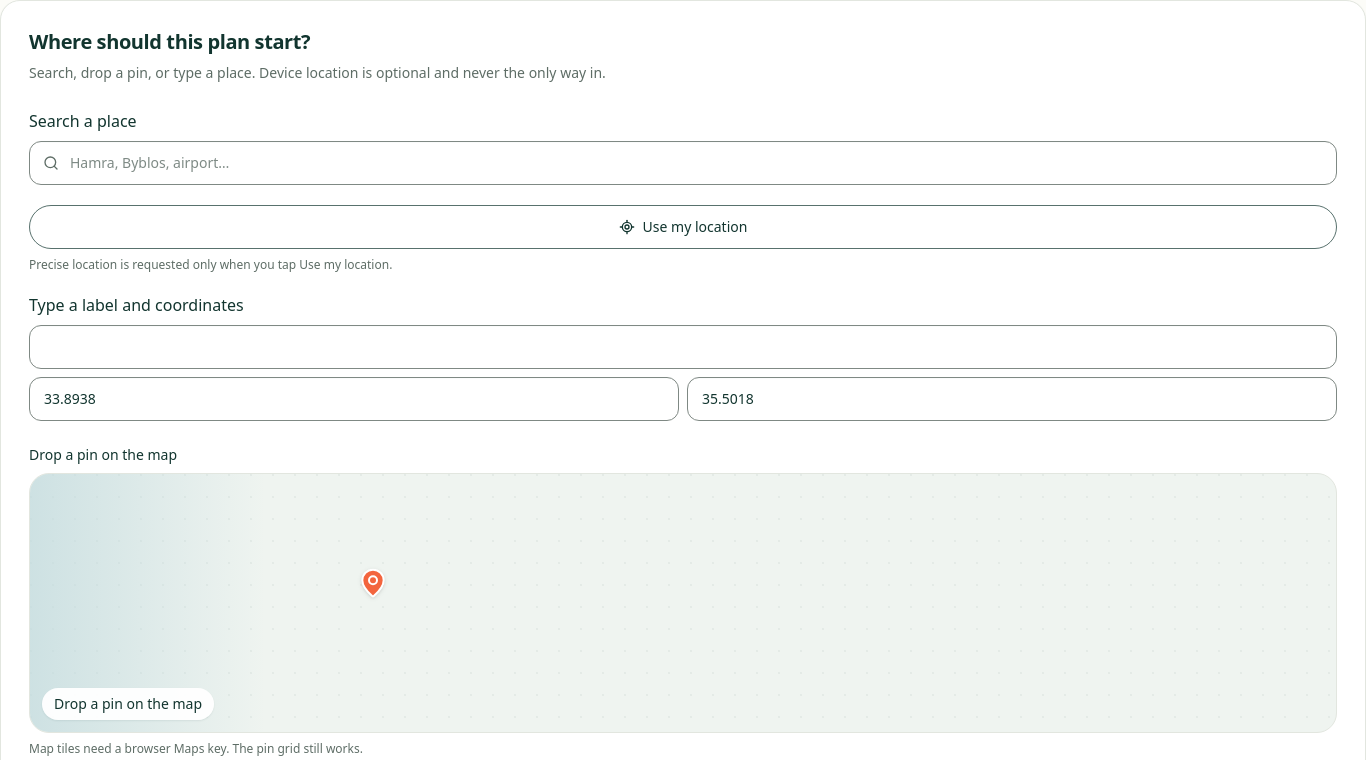
Test: start location picker › applies a search hit and a dropped pin
Type "byb" into the field labelled "Search a place" at x=683, y=163, box [29,141,1337,185]
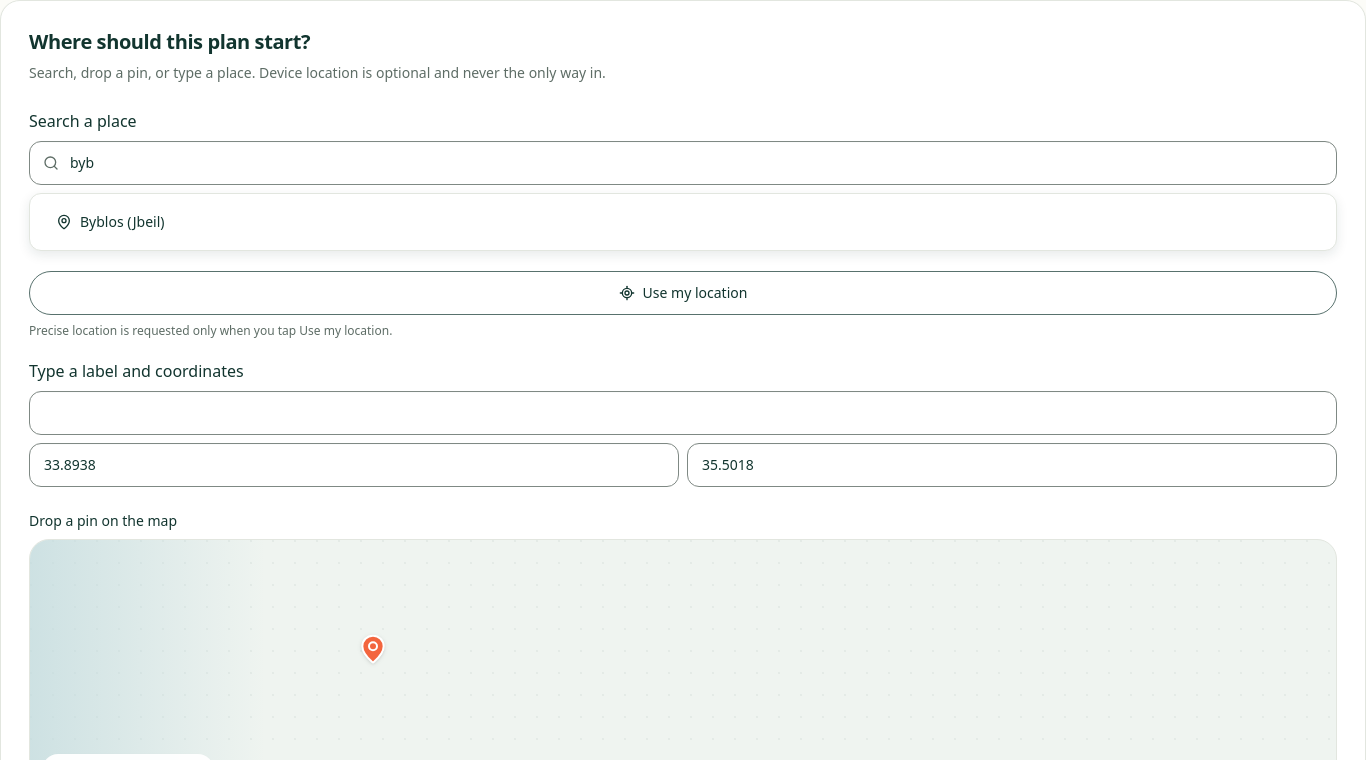
expect the button "Byblos (Jbeil)" is shown: met
Click the button "Byblos (Jbeil)" at x=122, y=221, box [36,200,1330,244]
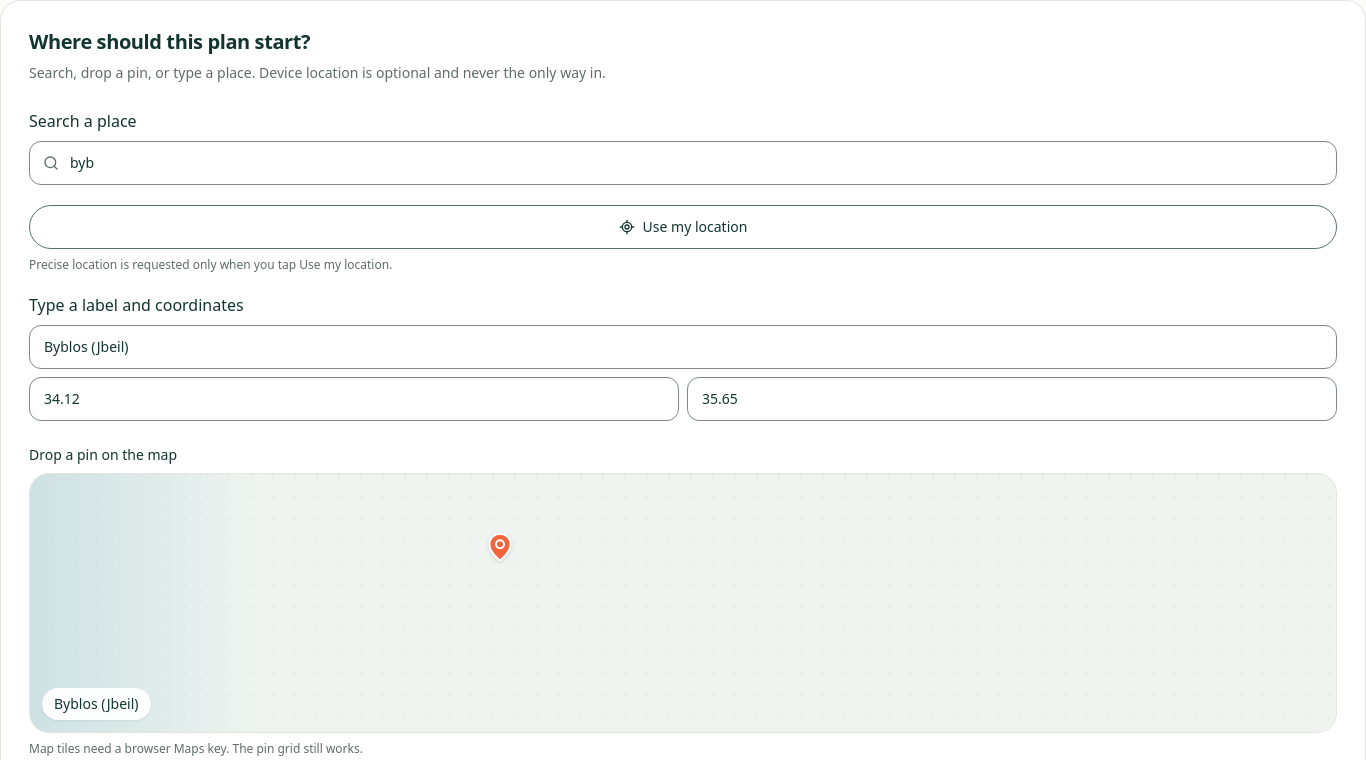
Click the element named "Drop a pin on the map" at x=683, y=603, box [29,473,1337,733]
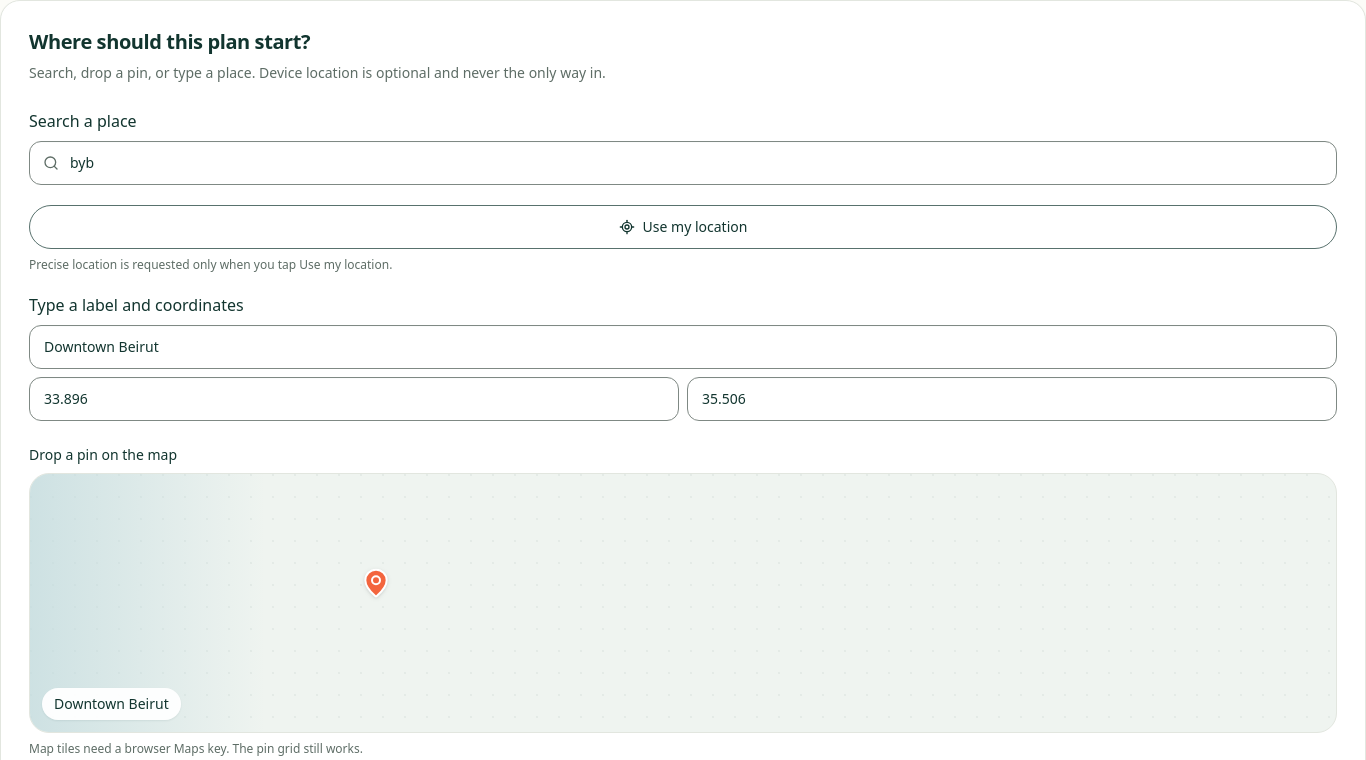
expect the field labelled "Type a label and coordinates" holds "Downtown Beirut": met, box [29,325,1337,369]
